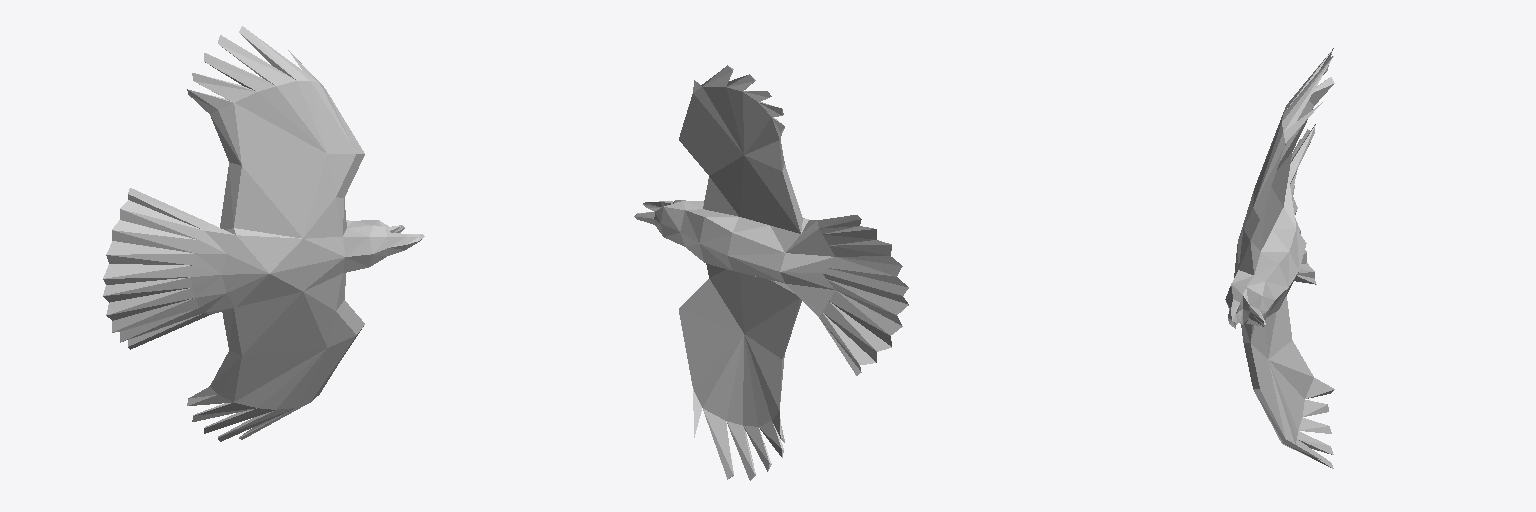
File: Bird_01.obj
3 renders of one model, left to right at view 1: azimuth 30°, elevation 25°; view 2: azimuth 150°, elevation 25°; view 3: azimuth 270°, elevation 25°, orthographic.
Visible parts, largest first — view 1: pCube7; view 2: pCube7; view 3: pCube7.
Part boxes in pixels (left/top/right/bottom): pCube7: left=103, top=26, right=424, bottom=441; pCube7: left=634, top=65, right=908, bottom=480; pCube7: left=1225, top=48, right=1334, bottom=468.
Bounding box in the file's own units: 179 × 241 × 57.84.